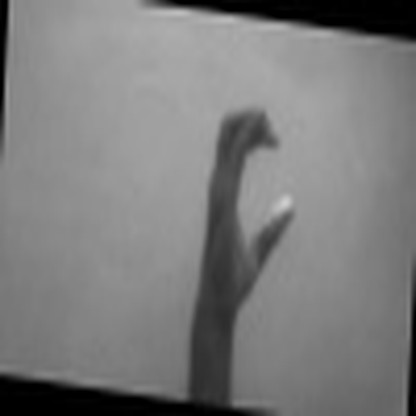c: (182, 99, 303, 294)
